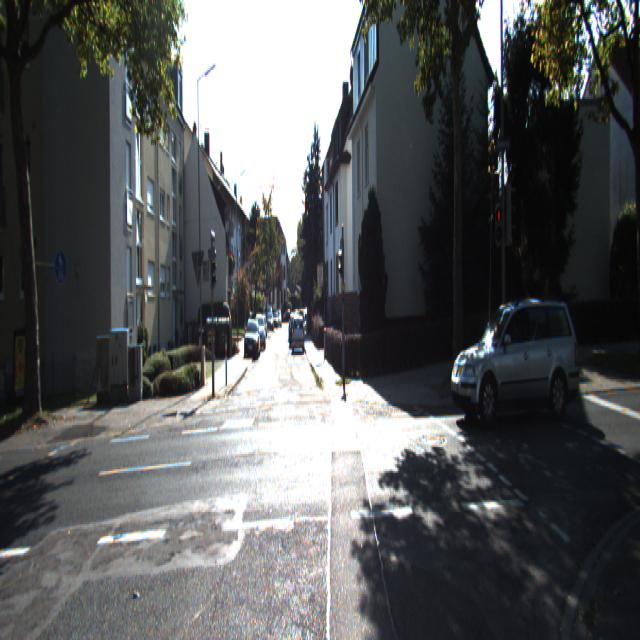Car: (447, 288, 583, 422), (244, 319, 261, 360), (291, 315, 305, 356)
